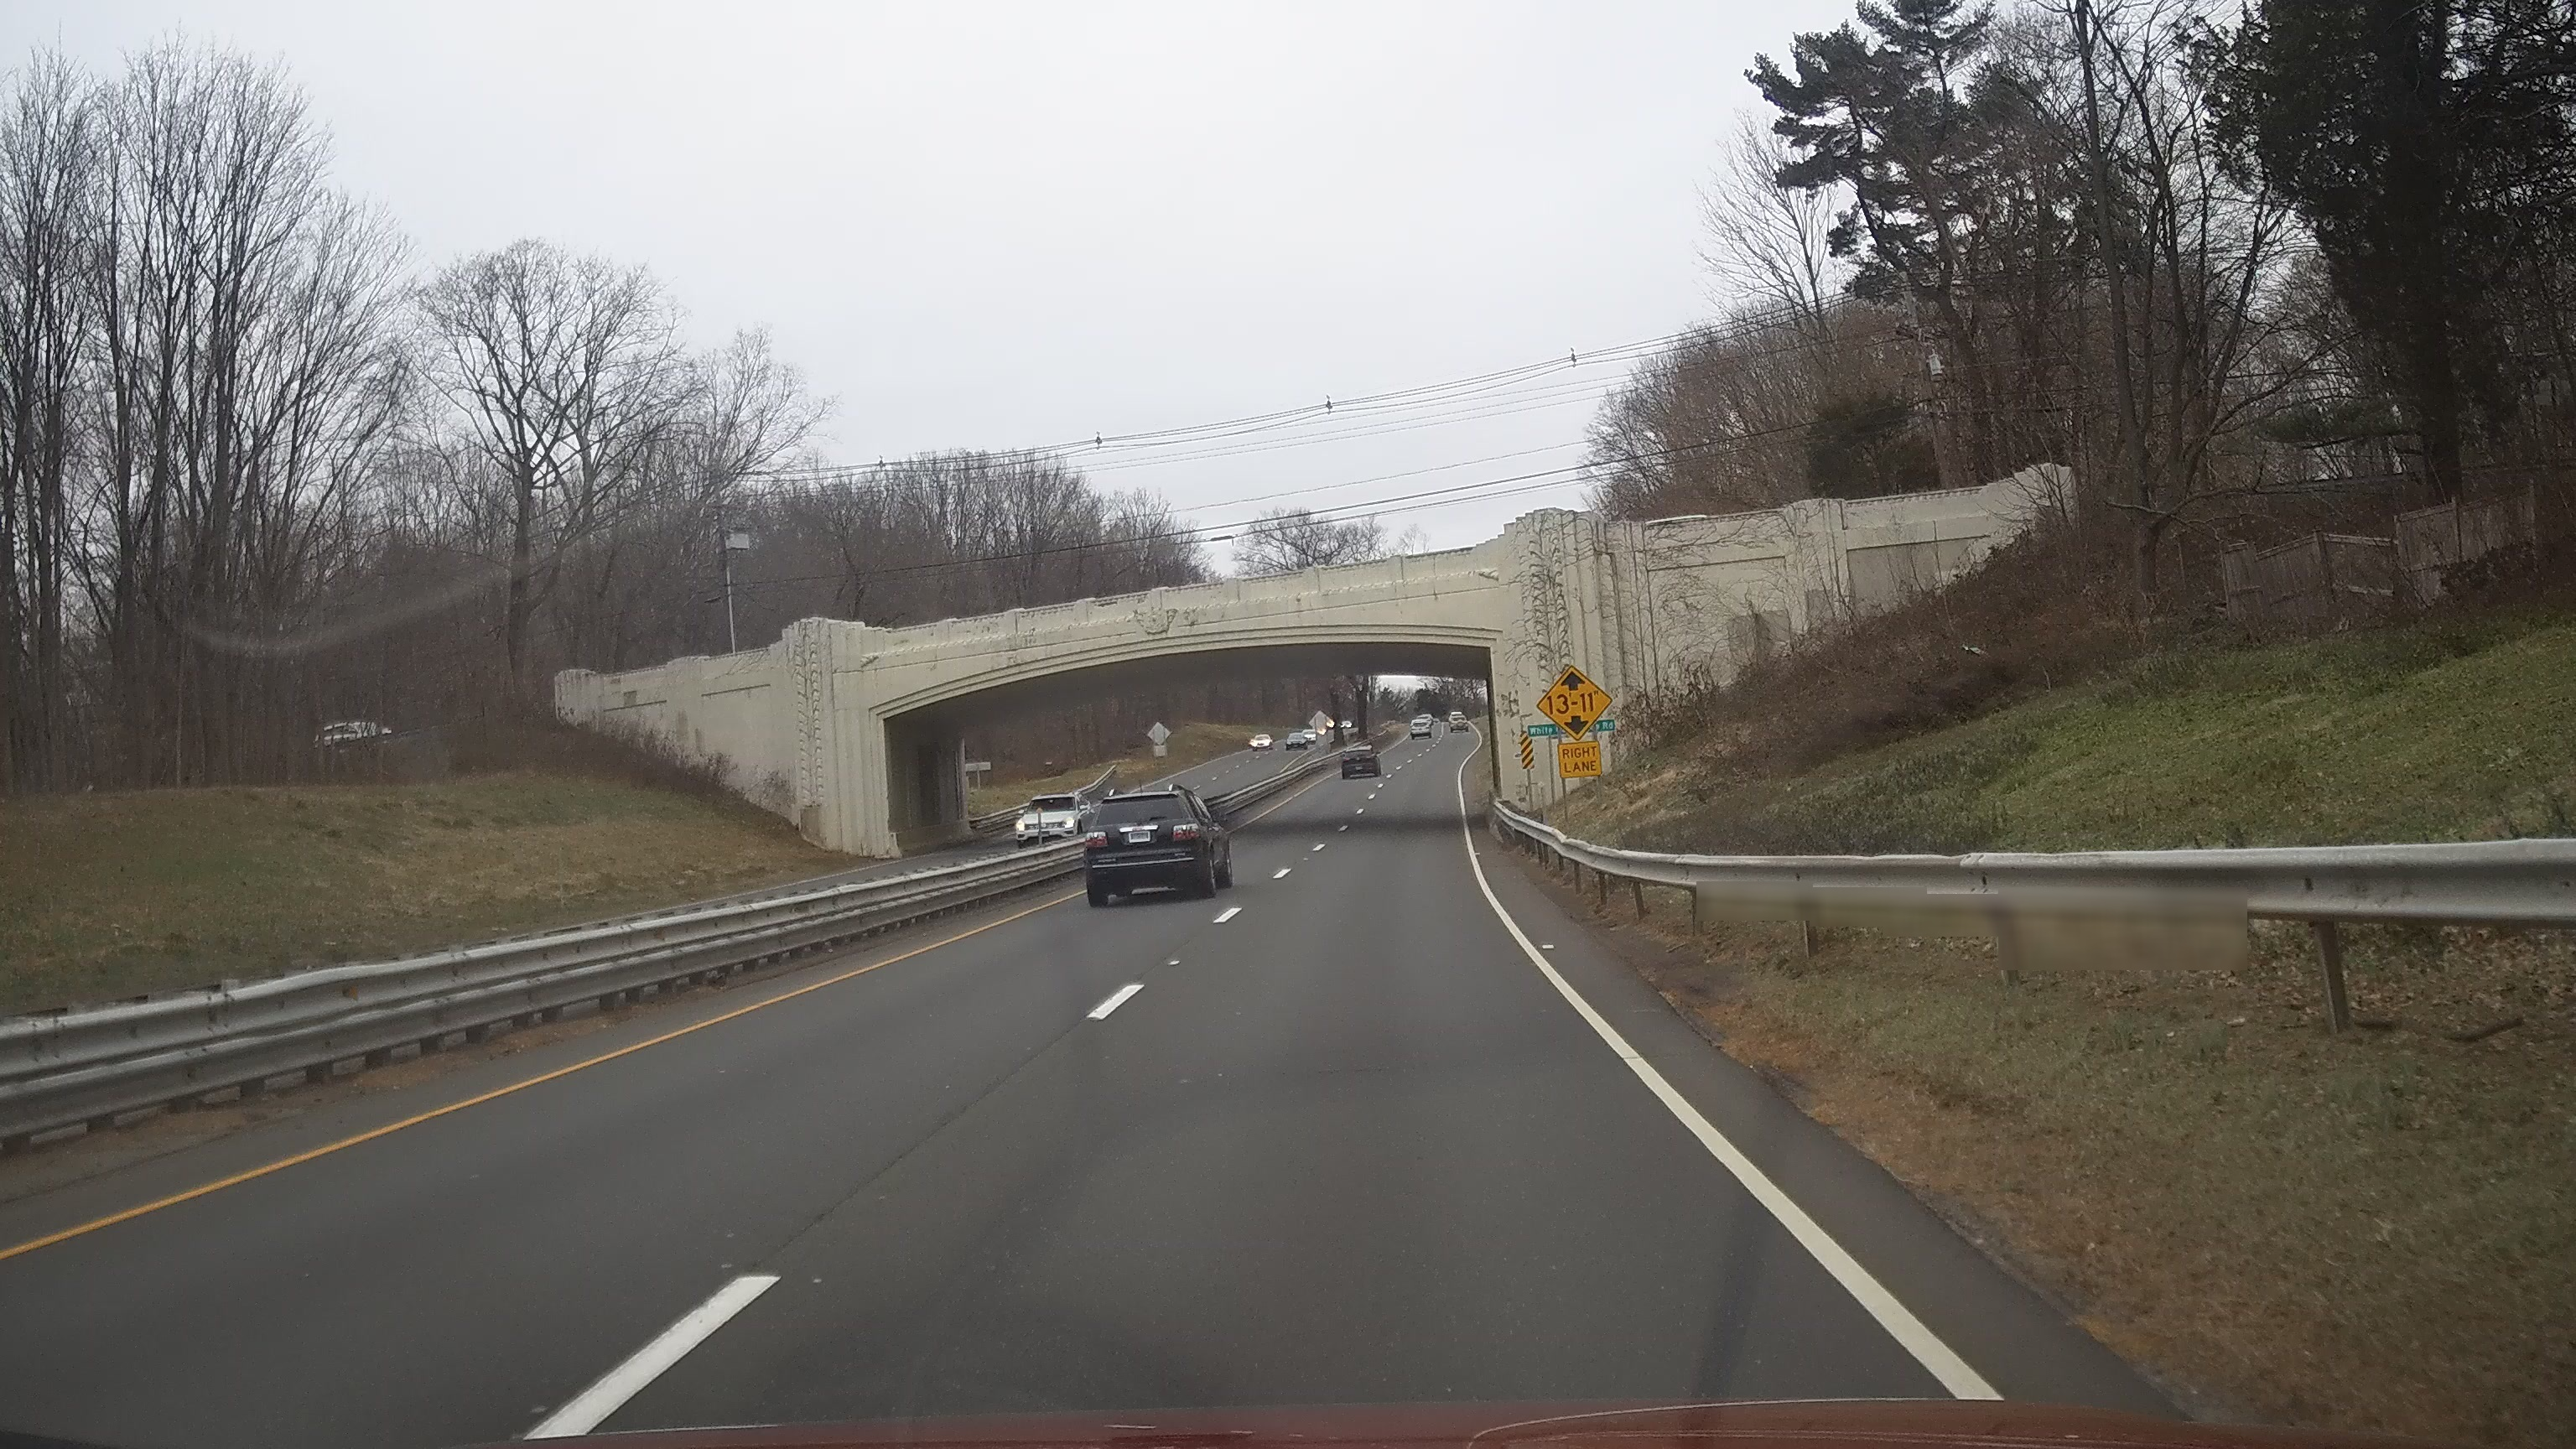low-clearance-sign: (1536, 663, 1614, 741)
